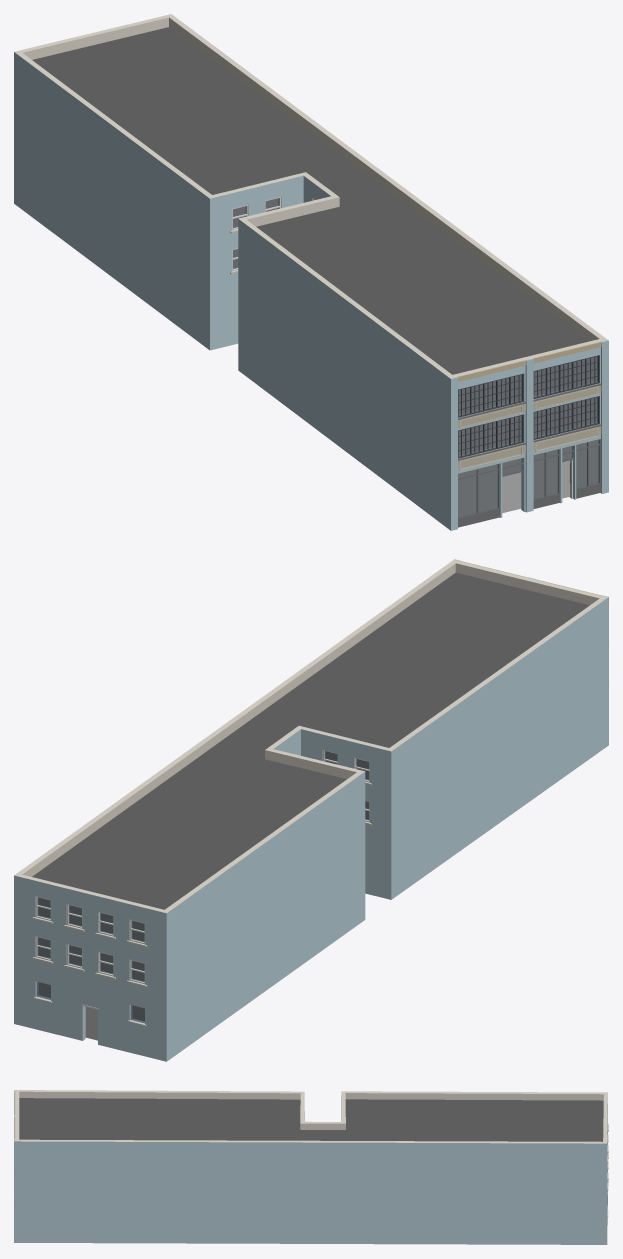
Rendered from exterior.glb.
3 renders of one model, top to bottom at view 1: azimuth 30°, elevation 25°; view 2: azimuth 150°, elevation 25°; view 3: azimuth 270°, elevation 25°, orthographic. The views are drawn at different scales.
Parts seen in each view (by area): view 1: shell, roof, glazing, shadow-proxy, relief-0, frames, storefront, trim; view 2: shell, roof, glazing, shadow-proxy, frames, trim; view 3: shell, roof, relief-0.
Boxes of the visible parts, <box> form: shell: <box>14,14,607,529</box>; roof: <box>32,27,589,374</box>; glazing: <box>233,198,599,517</box>; shadow-proxy: <box>233,198,597,516</box>; relief-0: <box>450,340,608,530</box>; frames: <box>232,197,599,458</box>; storefront: <box>458,439,600,527</box>; trim: <box>230,229,601,460</box>; shell: <box>14,560,607,1061</box>; roof: <box>32,572,589,909</box>; glazing: <box>36,751,369,1023</box>; shadow-proxy: <box>38,751,368,1040</box>; frames: <box>35,750,369,984</box>; trim: <box>32,782,371,1026</box>; shell: <box>15,1090,607,1244</box>; roof: <box>19,1098,603,1141</box>; relief-0: <box>14,1090,15,1242</box>.
Size of the model in its own units: 10.53 by 9.29 by 49.4.
